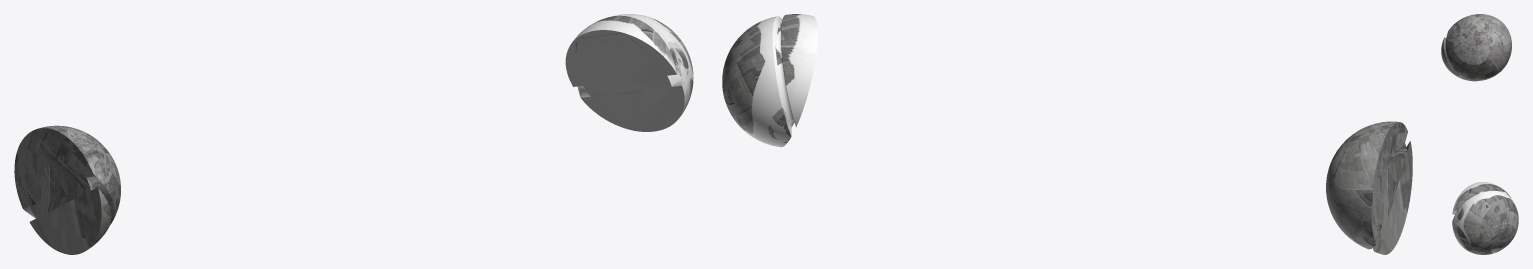
The model's file is Drone166_000034.obj.
3 views of the same model, side by side, from view 1: azimuth 30°, elevation 25°; view 2: azimuth 150°, elevation 25°; view 3: azimuth 270°, elevation 25° (orthographic). The views are drawn at different scales.
Parts seen in each view (by area): view 1: Sphere.001, Sphere.000_Sphere.002; view 2: Sphere.001, Sphere.000_Sphere.002; view 3: Sphere.001, Sphere.000_Sphere.002.
Boxes of the visible parts, x1,y1,x2,y2 form: Sphere.001: (565,14,693,131); Sphere.000_Sphere.002: (14,125,120,254); Sphere.001: (722,14,817,147); Sphere.000_Sphere.002: (1326,121,1412,254); Sphere.001: (1452,182,1518,254); Sphere.000_Sphere.002: (1441,14,1511,81).
Bounding box in the file's own units: 11.63 × 2.57 × 2.2.
4 materials, 4 textured.
